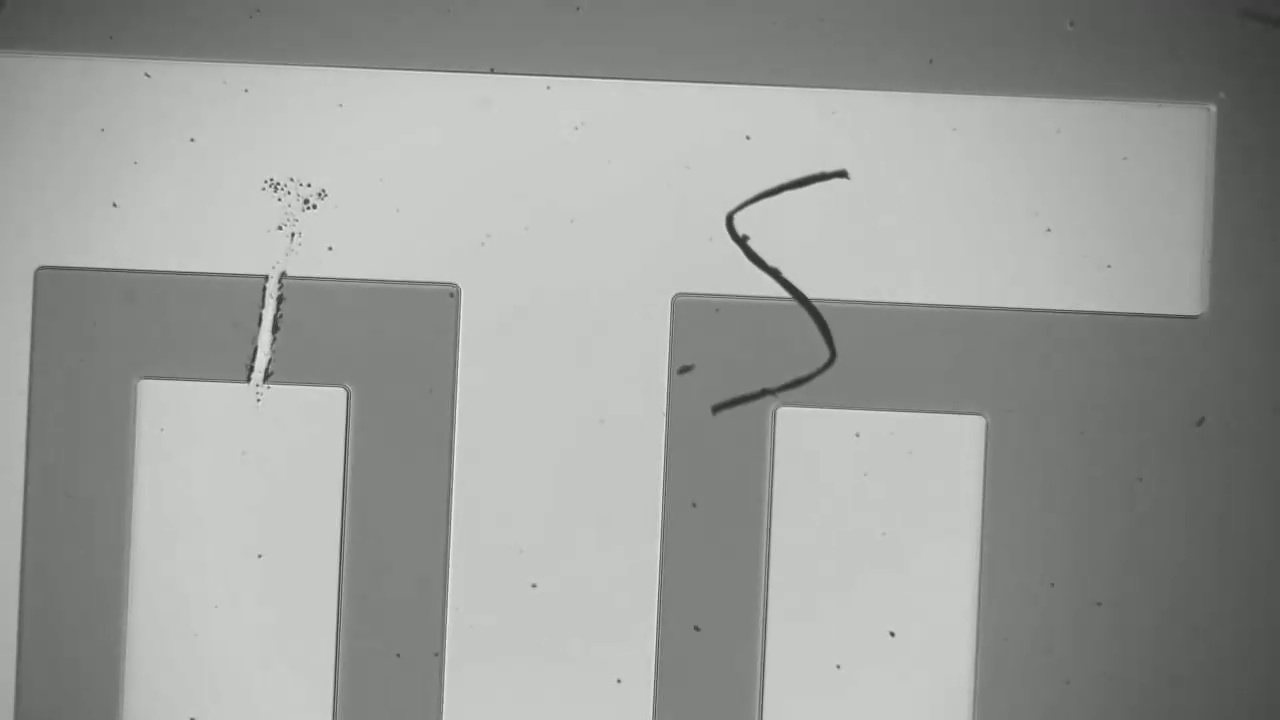Short_circuit: (228, 242, 304, 407)
